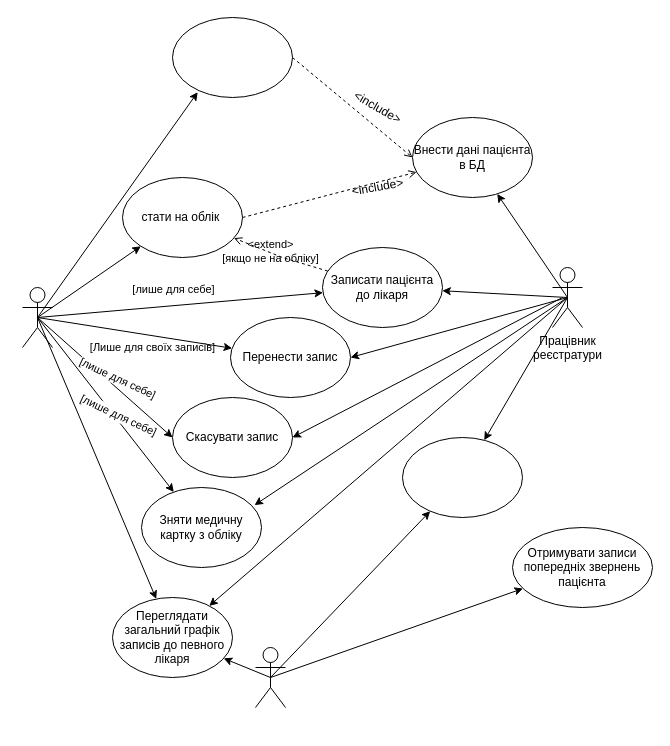
The diagram is 670 pixels wide and 746 high, and some of its shapes have lost their labels. The centre of each missing label's shape, as x and y in pixels:
Лікар: the point at 270,677
пацієнт: the point at 37,317
Переглядати список зареєстрованих пацієнтів та їх профілі: the point at 462,477
редагувати профіль: the point at 232,57
